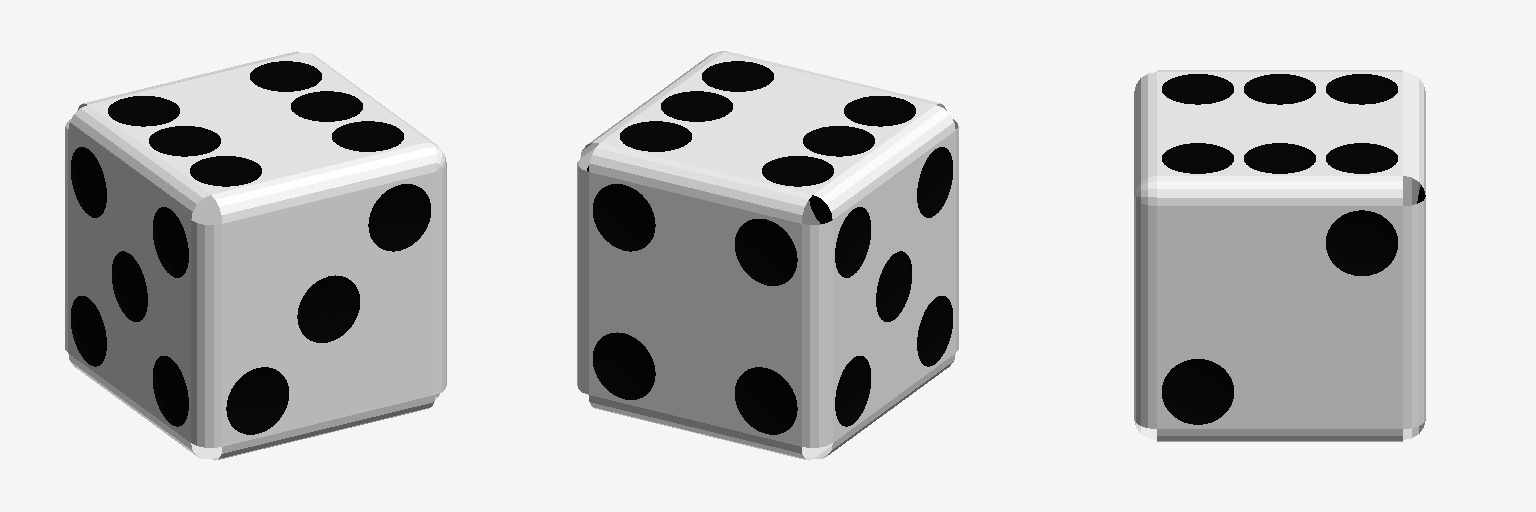
The model's file is die.obj.
The picture shows the model from 3 angles: view 1: azimuth 30°, elevation 25°; view 2: azimuth 150°, elevation 25°; view 3: azimuth 270°, elevation 25°; orthographic projection.
Size of the model in its own units: 0.016 by 0.016 by 0.016.